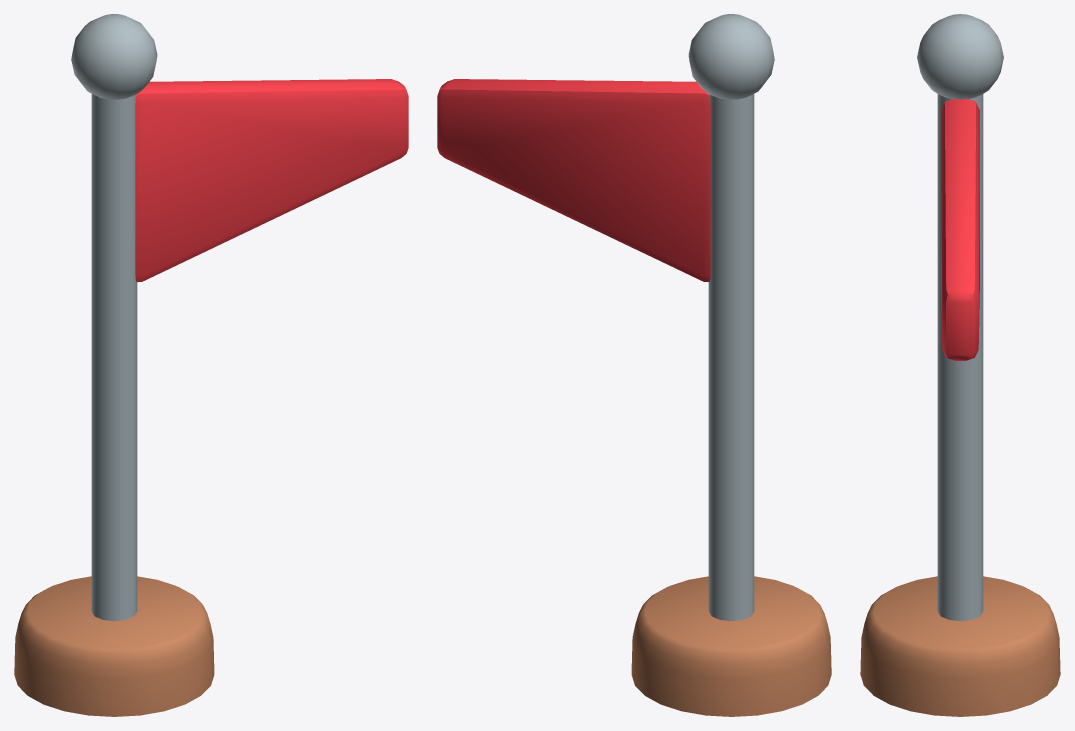
The model's file is flag_teamRed.glb.
3 renders of one model, left to right at view 1: azimuth 30°, elevation 25°; view 2: azimuth 150°, elevation 25°; view 3: azimuth 270°, elevation 25°, orthographic.
Parts seen in each view (by area): view 1: flag_teamRed; view 2: flag_teamRed; view 3: flag_teamRed.
Part boxes in pixels (x1=…): flag_teamRed: x1=14, y1=14, x2=408, y2=716; flag_teamRed: x1=437, y1=14, x2=831, y2=716; flag_teamRed: x1=860, y1=14, x2=1060, y2=716.
Bounding box in the file's own units: 0.4442 × 0.7398 × 0.2044.
